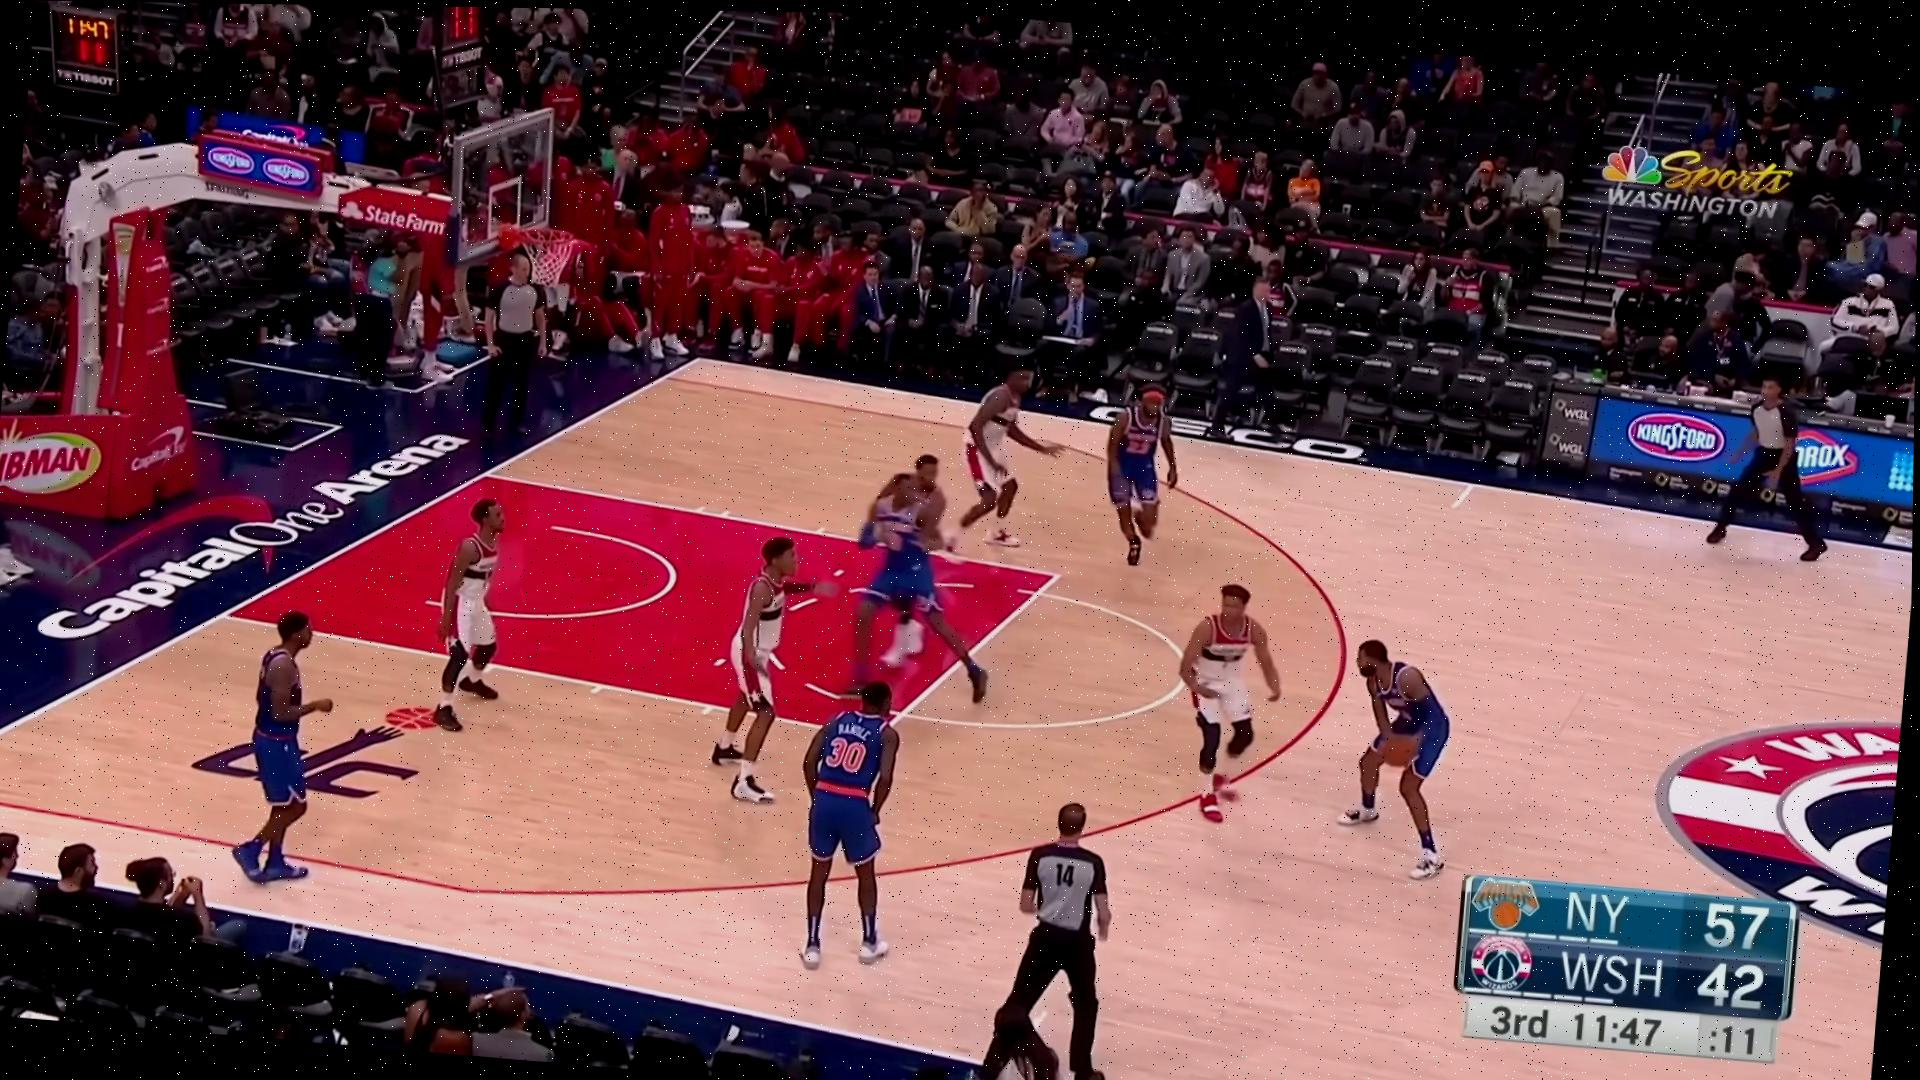no_foul: (1118, 546, 1497, 914)
